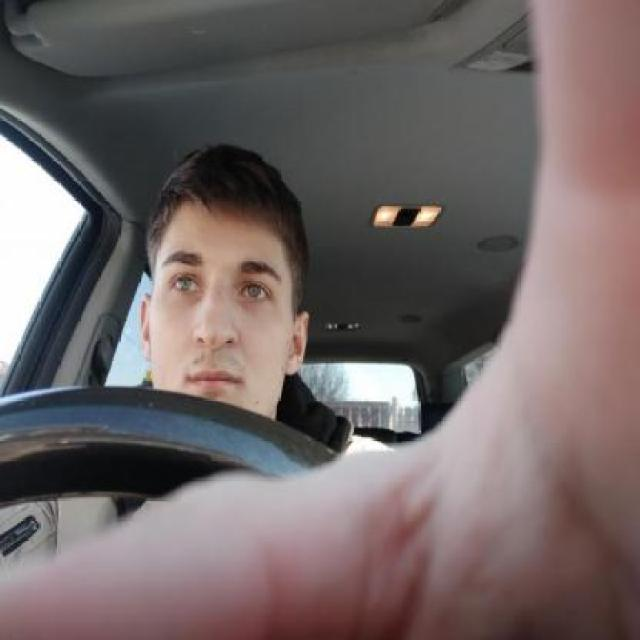awake: (170, 272, 202, 296), (238, 281, 273, 301)
